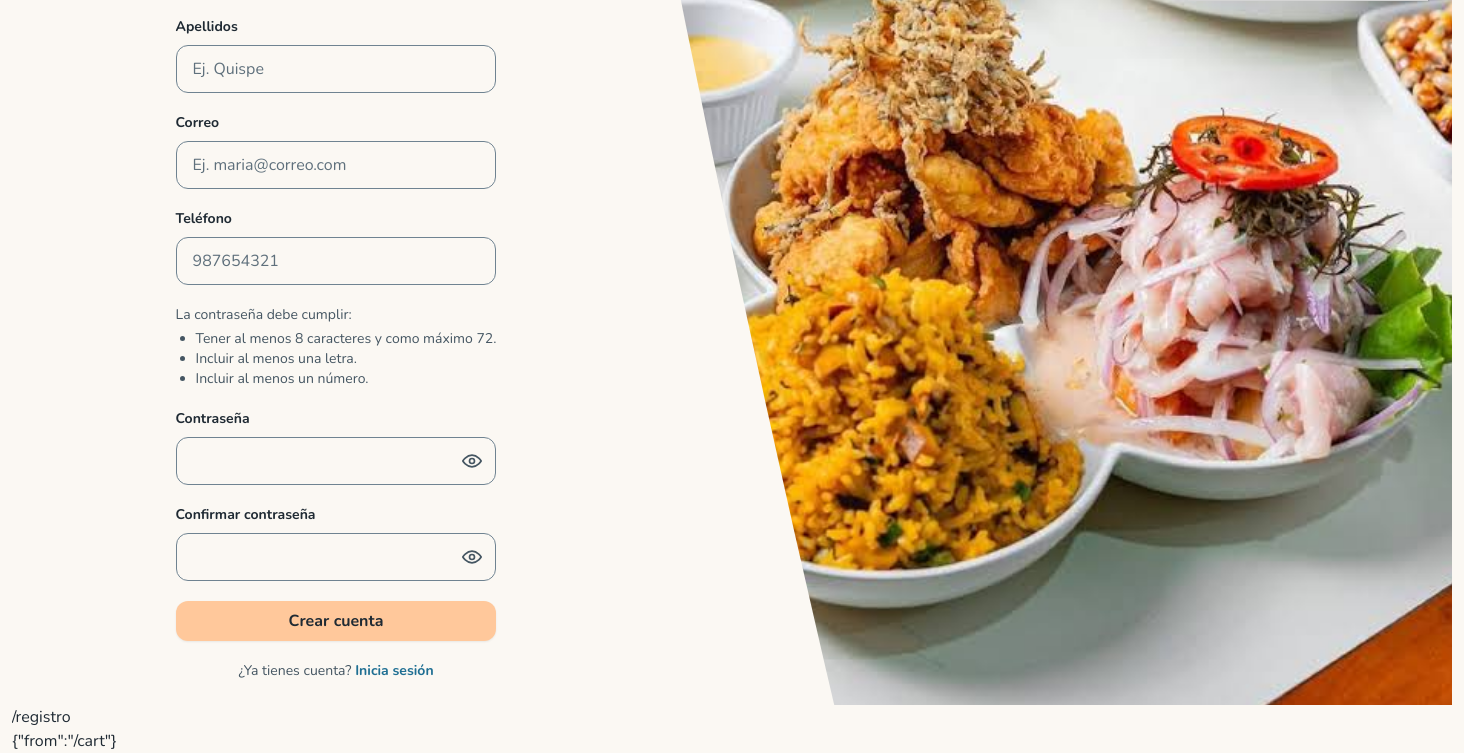
Test: RegisterPage › el enlace a iniciar sesión conserva la pantalla de origen
The image size is (1464, 753).
(page scrolled)
Click the link "Inicia sesión" at (394, 670), box [355,661,434,680]
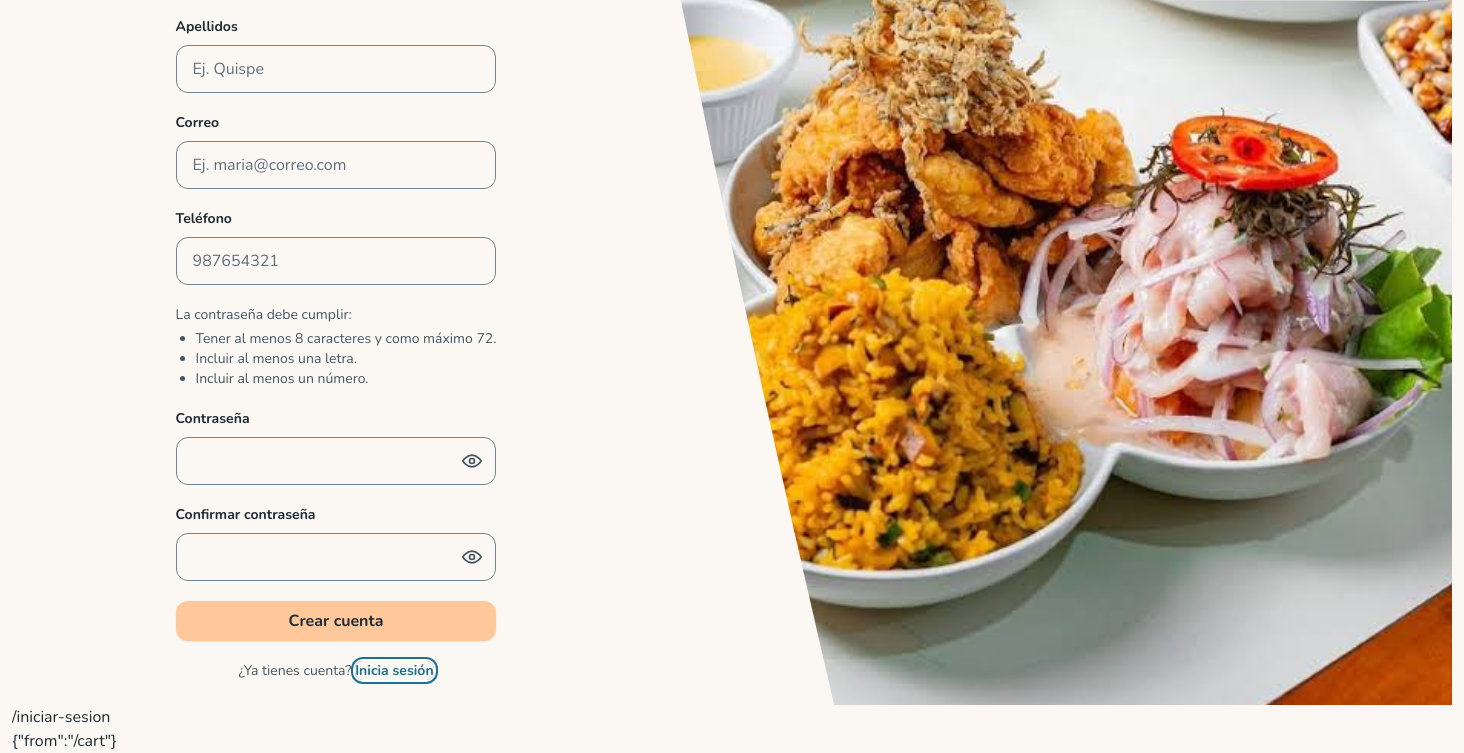
Expected: the text with test id "location-state" shows "\"from\":\"/cart\"", [12,730,117,752]
Now the text with test id "location" reads "/iniciar-sesion", box [12,706,110,728]
